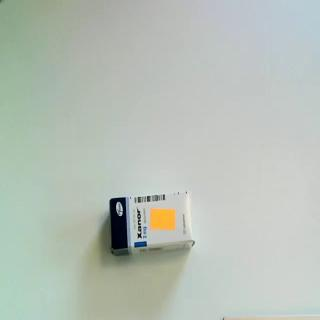xanor2mg: (107, 188, 197, 259)
